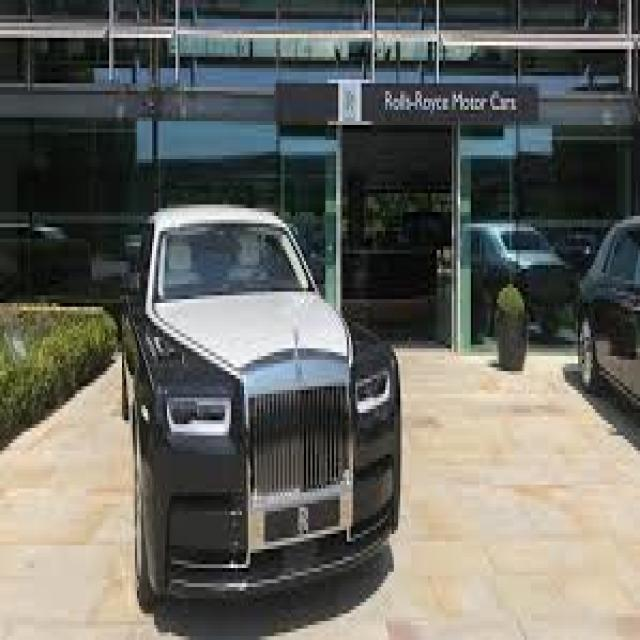car: (107, 201, 413, 628), (565, 200, 640, 439)
